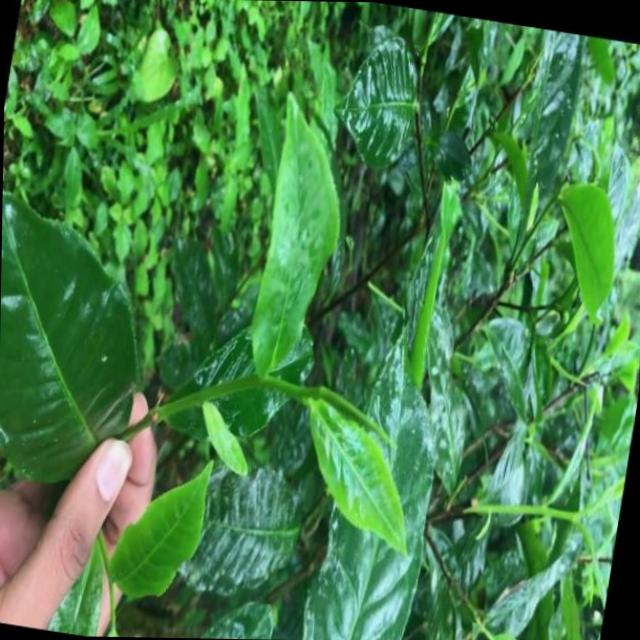Stem: (253, 374, 267, 385)
